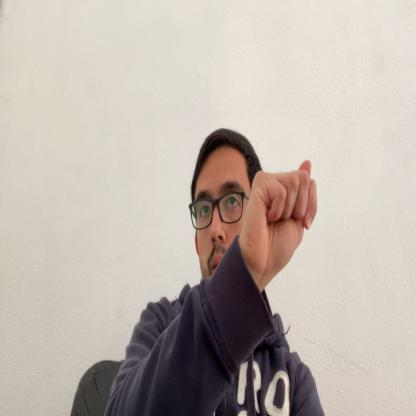T: (243, 158, 318, 279)
